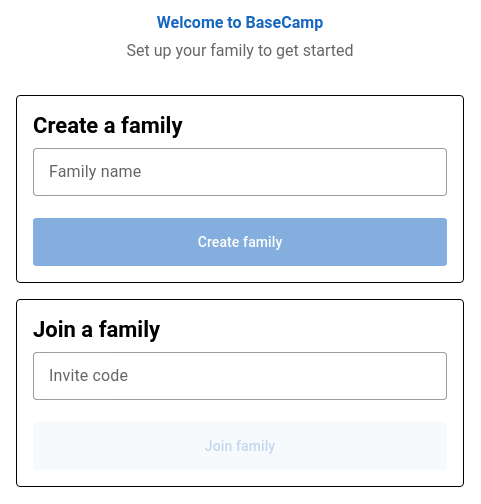
Scenario: SetupView › Join family section › shows error when joinFamily throws
Type "ABCD2345" into the field labelled "Invite code" at (240, 376), box x1=33 y1=352 x2=447 y2=400
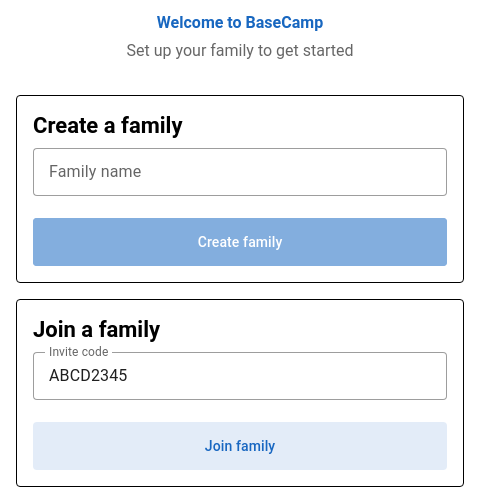
Click the button "Join family" at (240, 446), box x1=33 y1=422 x2=447 y2=470
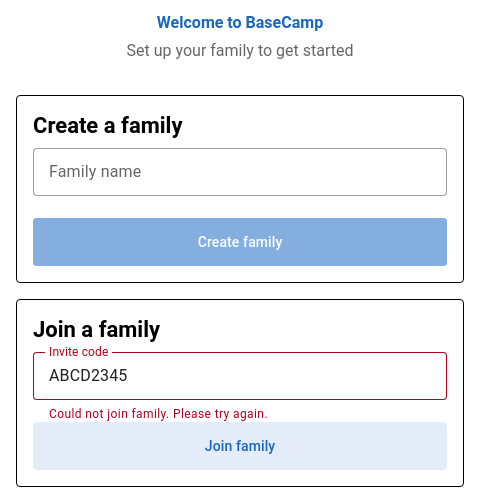
Now the text "Could not join family" is shown, box x1=49 y1=407 x2=268 y2=421
